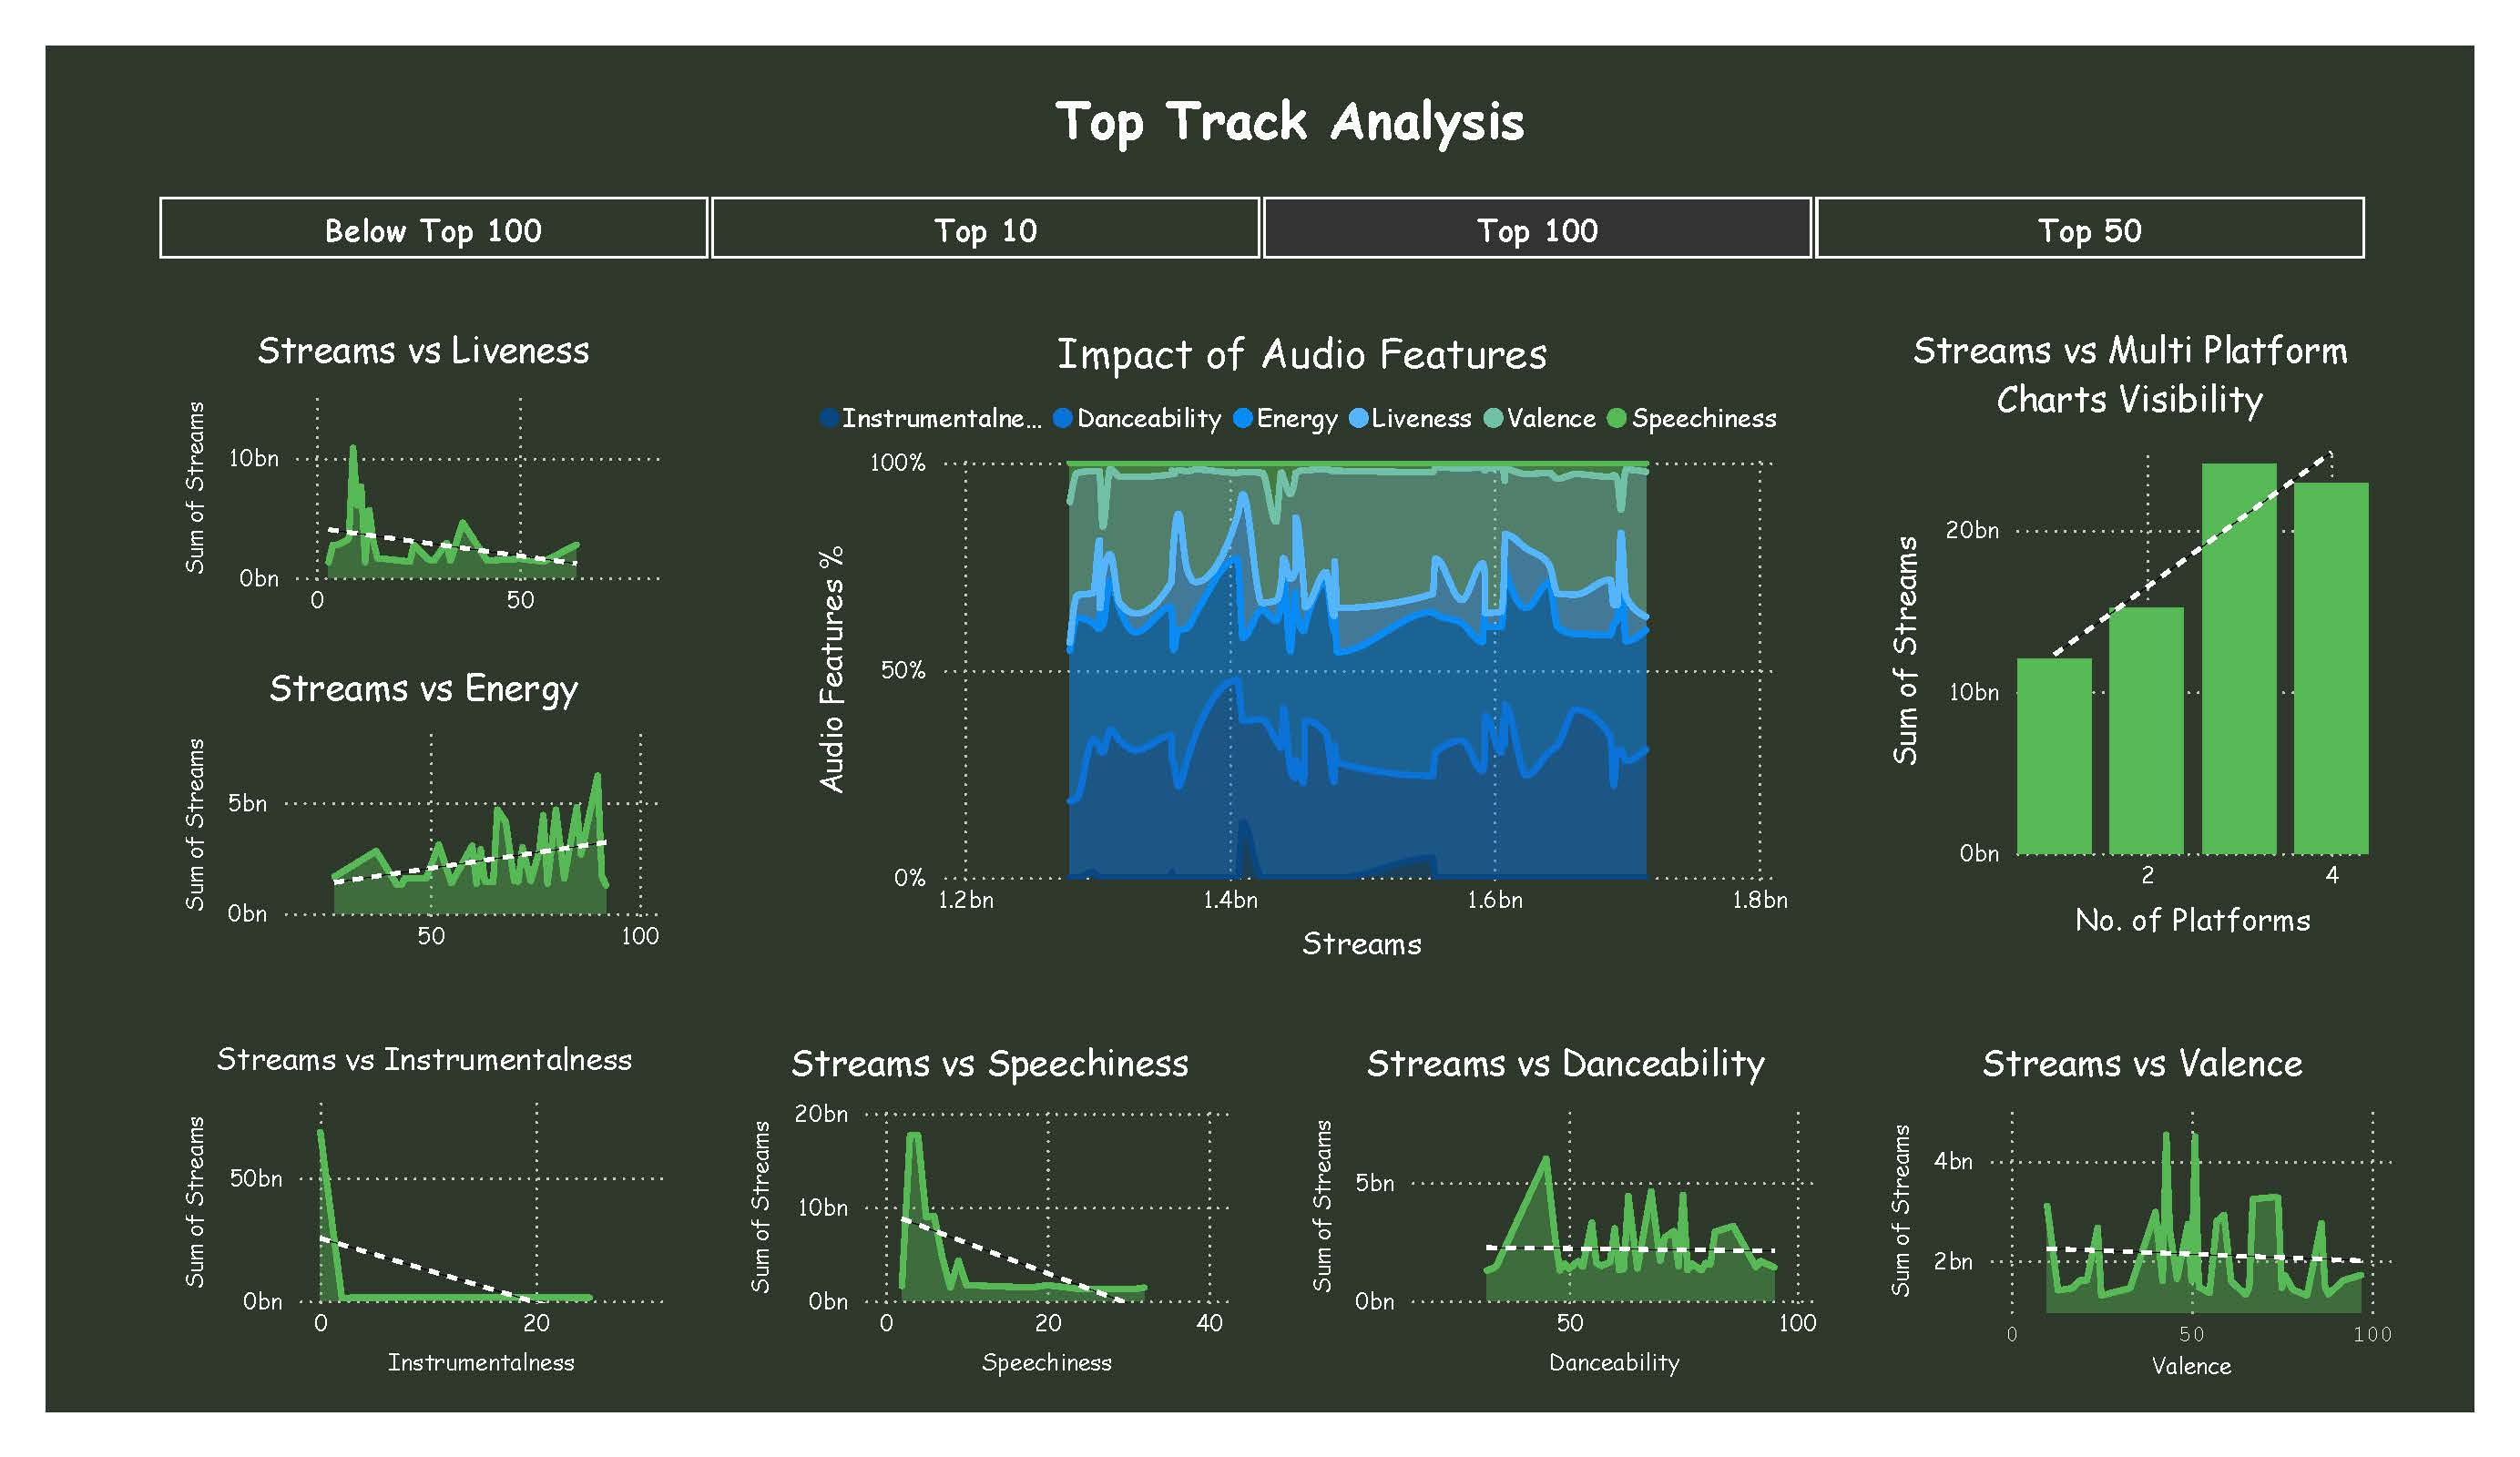

What the dashboard file says about the page in this screenshot:
{"tool":"powerbi","page":{"name":"Track Analysis","canvas":[1280,720],"ordinal":1},"visuals":[{"type":"areaChart","title":"Streams vs Danceability","fields":{"Category":["spotify-2023.Danceability"],"Y":["Sum(spotify-2023.Streams)"]},"box":[663.3,521.9,276.1,185.4],"z":0},{"type":"areaChart","title":"Streams vs Energy","fields":{"Category":["spotify-2023.Energy"],"Y":["Sum(spotify-2023.Streams)"]},"box":[68.7,323.6,260.7,165.9],"z":1000},{"type":"areaChart","title":"Streams vs Instrumentalness","fields":{"Category":["spotify-2023.Instrumentalness"],"Y":["Sum(spotify-2023.Streams)"]},"box":[68.7,521.9,260.9,185.4],"z":2000},{"type":"areaChart","title":"Streams vs Liveness","fields":{"Category":["spotify-2023.Liveness"],"Y":["Sum(spotify-2023.Streams)"]},"box":[68.7,145.8,260.7,165.9],"z":3000},{"type":"areaChart","title":"Streams vs Speechiness","fields":{"Category":["spotify-2023.Speechiness"],"Y":["Sum(spotify-2023.Streams)"]},"box":[366.7,521.9,260.9,185.4],"z":4000},{"type":"areaChart","title":"Streams vs Valence","fields":{"Y":["Sum(spotify-2023.Streams)"],"Category":["spotify-2023.Valence"]},"box":[968.2,521.9,273.3,186.8],"z":5000},{"type":"hundredPercentStackedAreaChart","title":"Impact of Audio Features","fields":{"Y":["Avg(spotify-2023.Instrumentalness)","Avg(spotify-2023.Danceability)","Avg(spotify-2023.Energy)","Avg(spotify-2023.Liveness)","Avg(spotify-2023.Valence)","Avg(spotify-2023.Speechiness)"],"Category":["spotify-2023.Streams"]},"box":[402.4,145.6,520.5,343.3],"z":6000},{"type":"slicer","fields":{"Values":["spotify-2023.TrackRank"]},"box":[34.3,72.8,1211.3,46.7],"z":7000},{"type":"lineClusteredColumnComboChart","title":"Streams vs Multi Platform Charts Visibility","fields":{"Category":["Sum(spotify-2023.MultiPlatformVisibility)"],"Y":["Sum(spotify-2023.Streams)"]},"box":[968.3,145.8,260.7,330.7],"z":8000},{"type":"textbox","box":[509.5,15.1,292.5,57.7],"z":9000}]}

Visuals, with their boxes on the page's 1280x720 design canvas (x1, y1, x2, y2). These are canvas units, not pixel positions in the 2520x1457 screenshot, which may show the page scaled, cropped or inside an application window:
"Streams vs Danceability" areaChart: bbox(663, 522, 939, 707)
"Streams vs Energy" areaChart: bbox(69, 324, 329, 490)
"Streams vs Instrumentalness" areaChart: bbox(69, 522, 330, 707)
"Streams vs Liveness" areaChart: bbox(69, 146, 329, 312)
"Streams vs Speechiness" areaChart: bbox(367, 522, 628, 707)
"Streams vs Valence" areaChart: bbox(968, 522, 1242, 709)
"Impact of Audio Features" hundredPercentStackedAreaChart: bbox(402, 146, 923, 489)
slicer - spotify-2023.TrackRank: bbox(34, 73, 1246, 120)
"Streams vs Multi Platform Charts Visibility" lineClusteredColumnComboChart: bbox(968, 146, 1229, 476)
textbox: bbox(510, 15, 802, 73)
